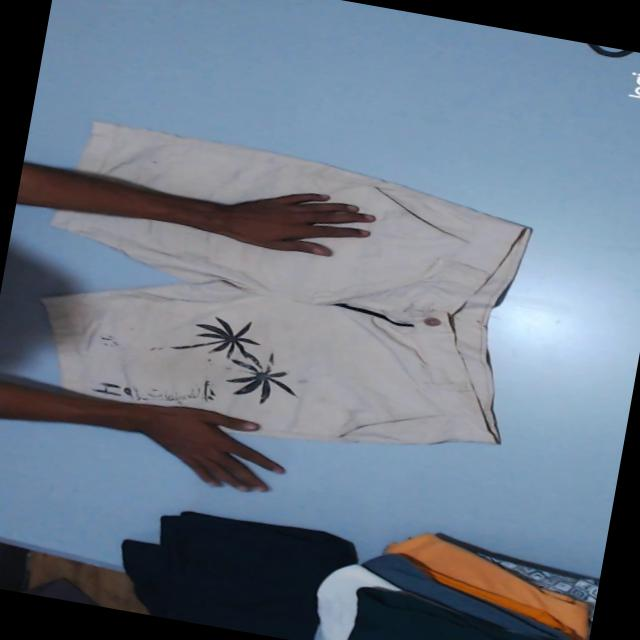new-garment: (43, 123, 528, 443)
